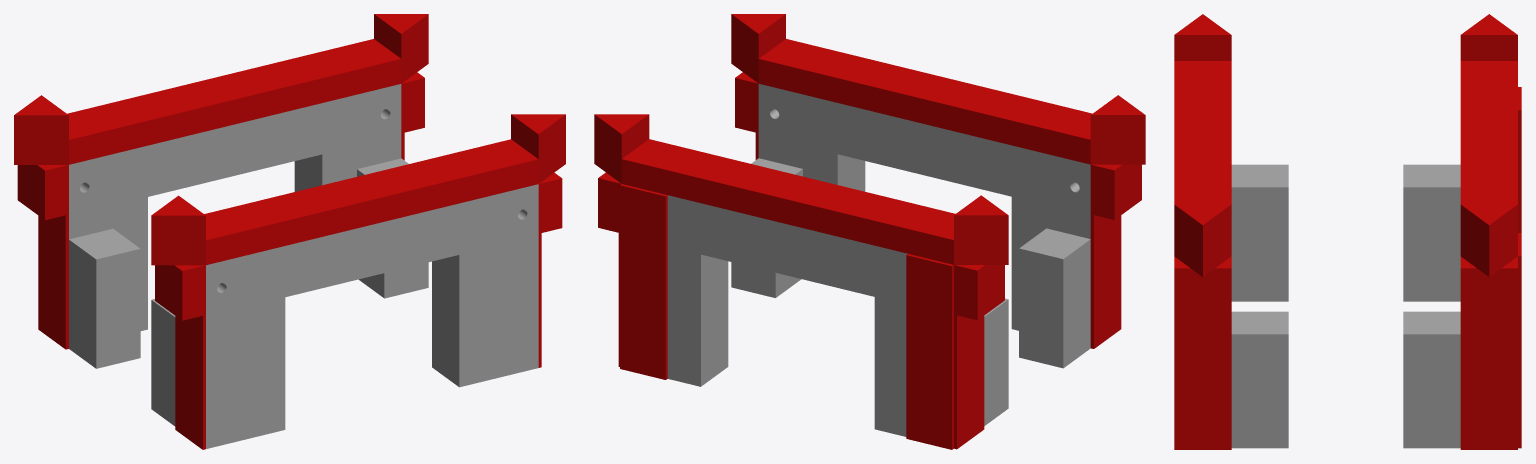
Rendered from frame.dae.
3 renders of one model, left to right at view 1: azimuth 30°, elevation 25°; view 2: azimuth 150°, elevation 25°; view 3: azimuth 270°, elevation 25°, orthographic. The views are drawn at different scales.
Parts seen in each view (by area): view 1: Komponente_5 (×4), Komponente_4 (×2), Komponente_6 (×2), Dreieck (×4); view 2: Komponente_5 (×4), Komponente_6 (×2), Komponente_4 (×2), Dreieck (×4); view 3: Komponente_5 (×4), Komponente_6 (×2), Komponente_4 (×2), Dreieck (×4).
Part boxes in pixels (x1,y1,x2,y2): Komponente_5 (×4): (69, 84, 538, 448); Komponente_4 (×2): (155, 139, 562, 449); Komponente_6 (×2): (17, 39, 424, 349); Dreieck (×4): (14, 14, 565, 265); Komponente_5 (×4): (667, 84, 1090, 436); Komponente_6 (×2): (598, 139, 1004, 449); Komponente_4 (×2): (735, 39, 1141, 348); Dreieck (×4): (594, 14, 1145, 264); Komponente_5 (×4): (1231, 164, 1460, 448); Komponente_6 (×2): (1460, 61, 1521, 449); Komponente_4 (×2): (1174, 61, 1231, 449); Dreieck (×4): (1174, 14, 1517, 276).
Bounding box in the file's own units: 5.16 × 3.58 × 2.78.
